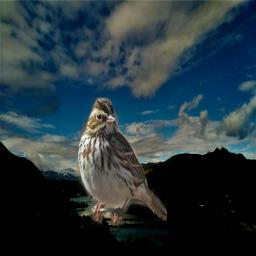Sparrow: (74, 97, 167, 227)
